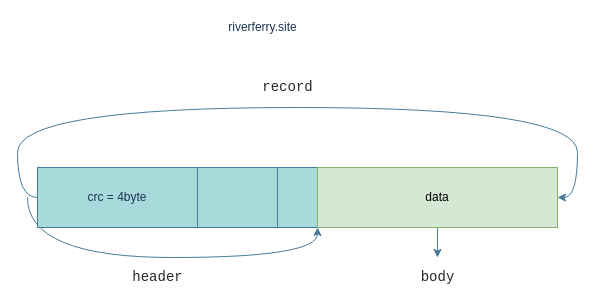
Image size: 595x304. Some labels were removed from this diagram. Each missing label, with the centre of its shape:
1type: point 297,197
len = 2bytes: point 237,197
